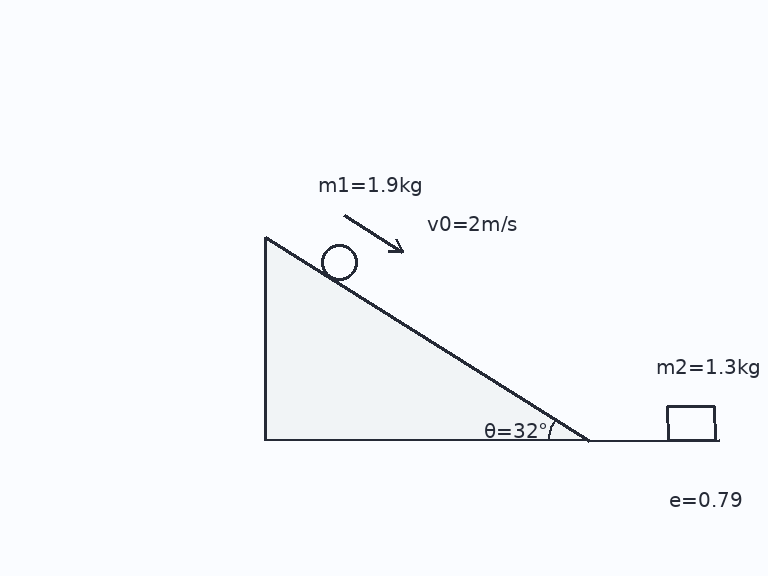ball: (319, 242, 359, 282)
block: (666, 404, 716, 442)
ramp: (262, 235, 591, 442)
